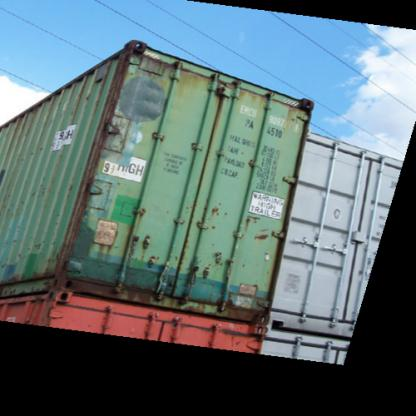Damage: (54, 43, 152, 275), (66, 260, 267, 314)
